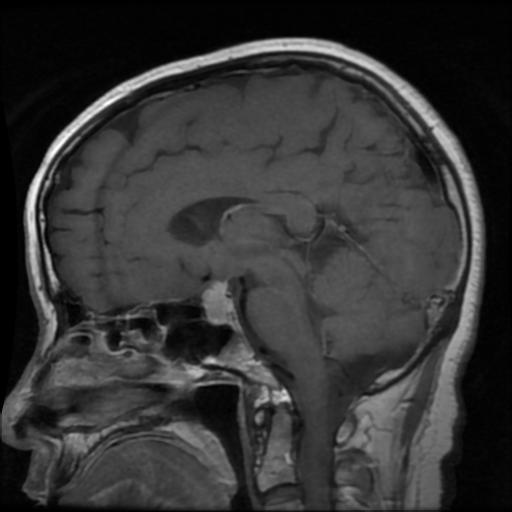Pituirity_tumour: (201, 283, 234, 324)
